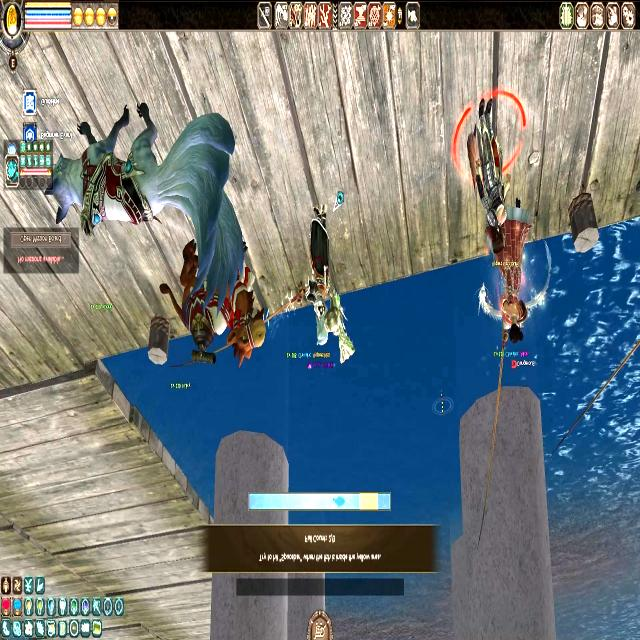fishes: (332, 495, 345, 509)
